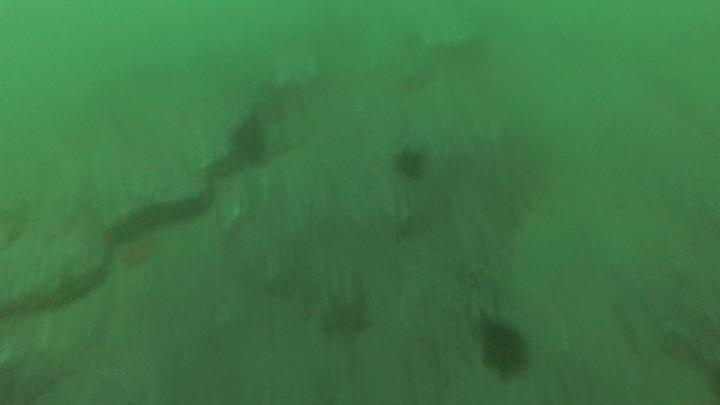echinus: (475, 314, 534, 381), (227, 117, 270, 168), (391, 145, 429, 181)
starfish: (315, 284, 376, 345)
